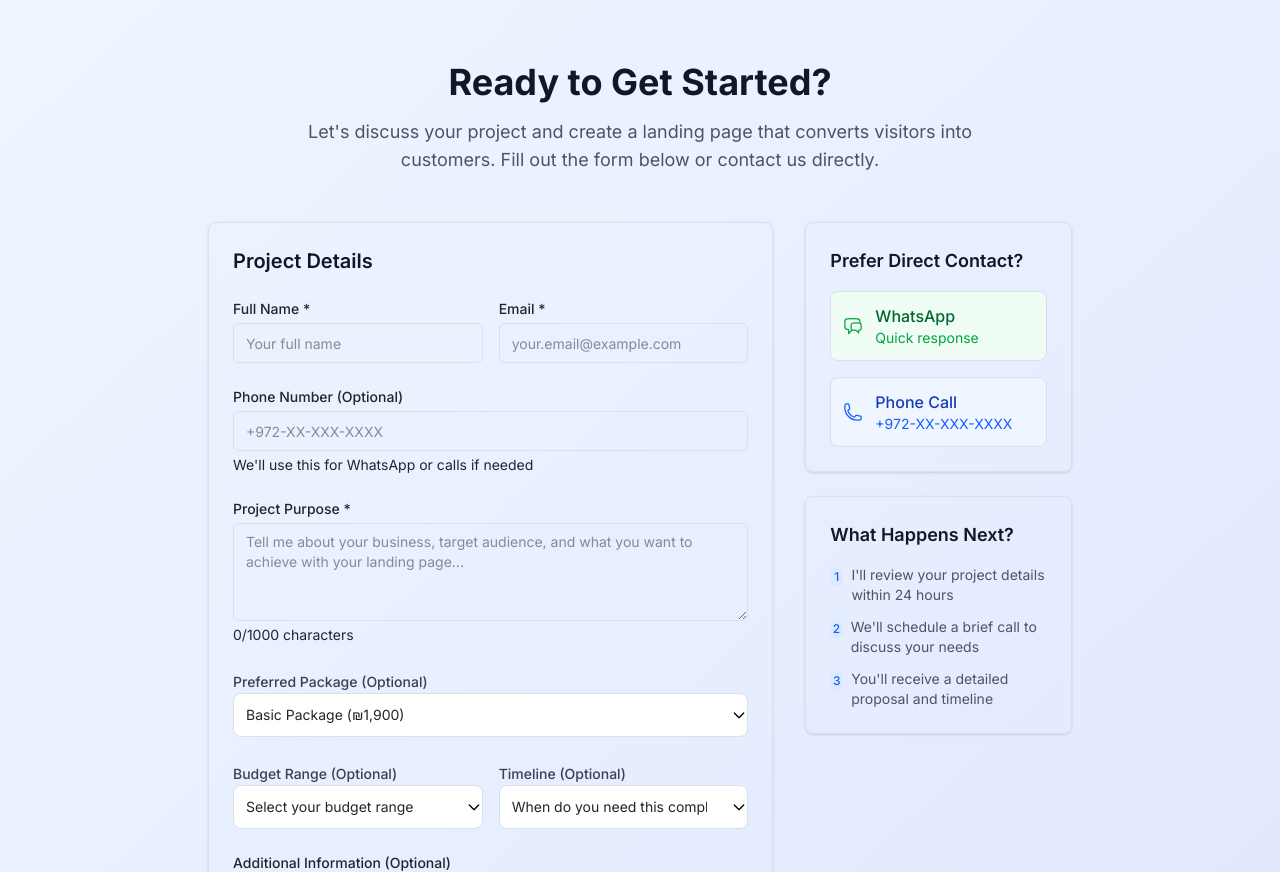
Contact Component › shows success message after successful submission
Fill out required fields
Type "John Doe" into the field labelled "Full Name *" at (358, 343), box [233, 323, 483, 363]
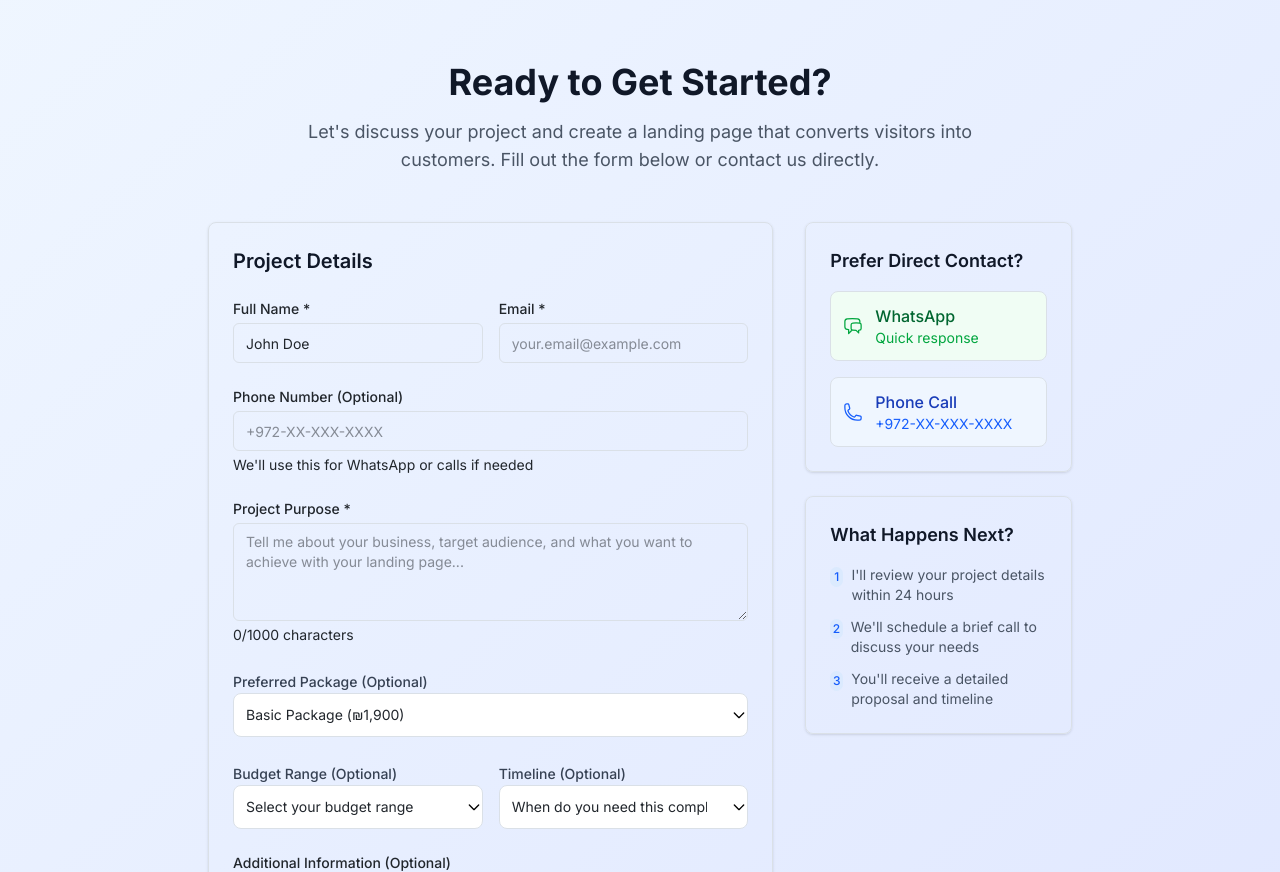
Type "john@example.com" into the field labelled "Email *" at (624, 343), box [499, 323, 748, 363]
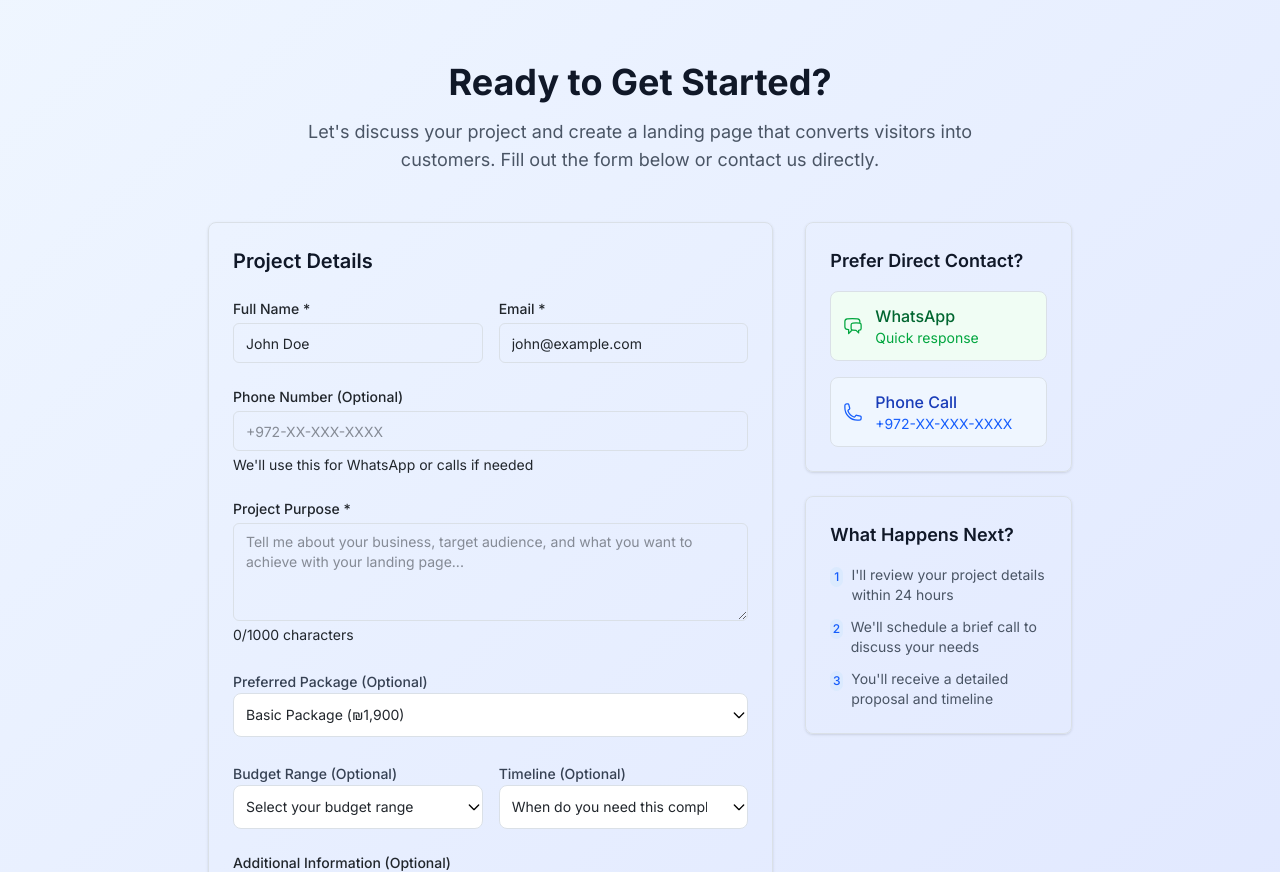
Type "I need a landing page for my business" into the text box labelled "Project Purpose *" at (491, 572), box [233, 523, 748, 621]
(page scrolled)
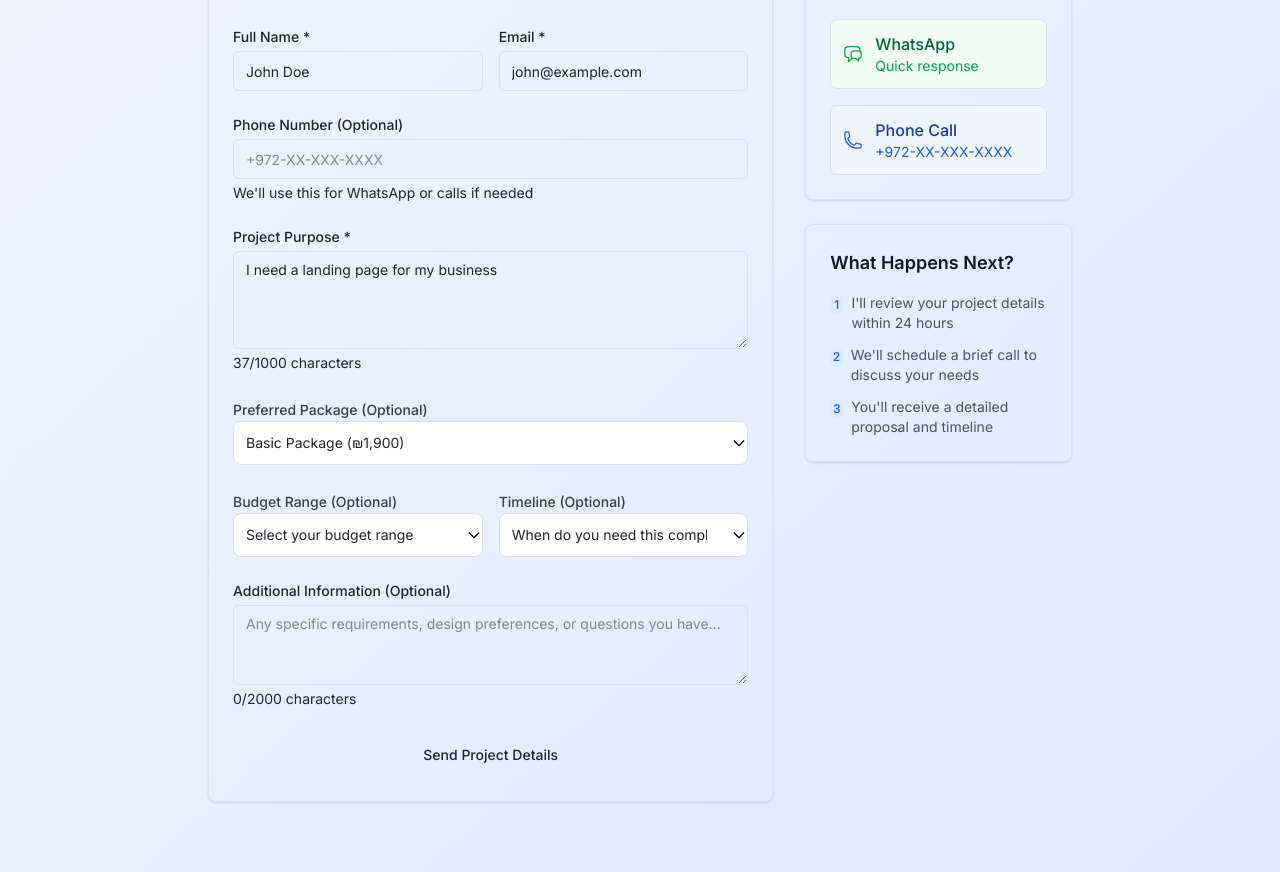
Click the button "Send Project Details" at (491, 755), box [233, 733, 748, 777]
(page scrolled)
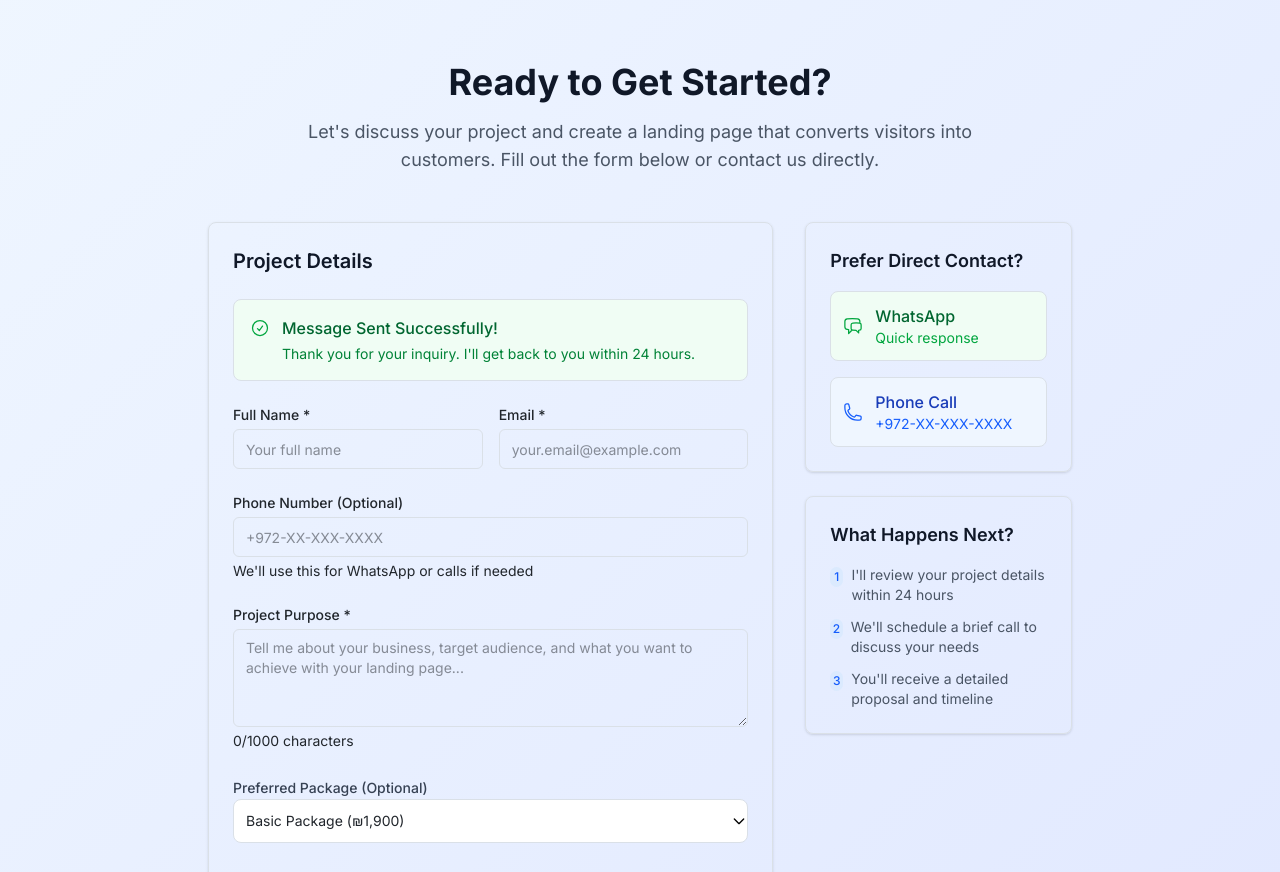
Expected: the heading "Message Sent Successfully!" is shown, [282, 318, 498, 338]
Expected: the text "Thank you for your inquiry" is shown, [282, 345, 695, 362]
